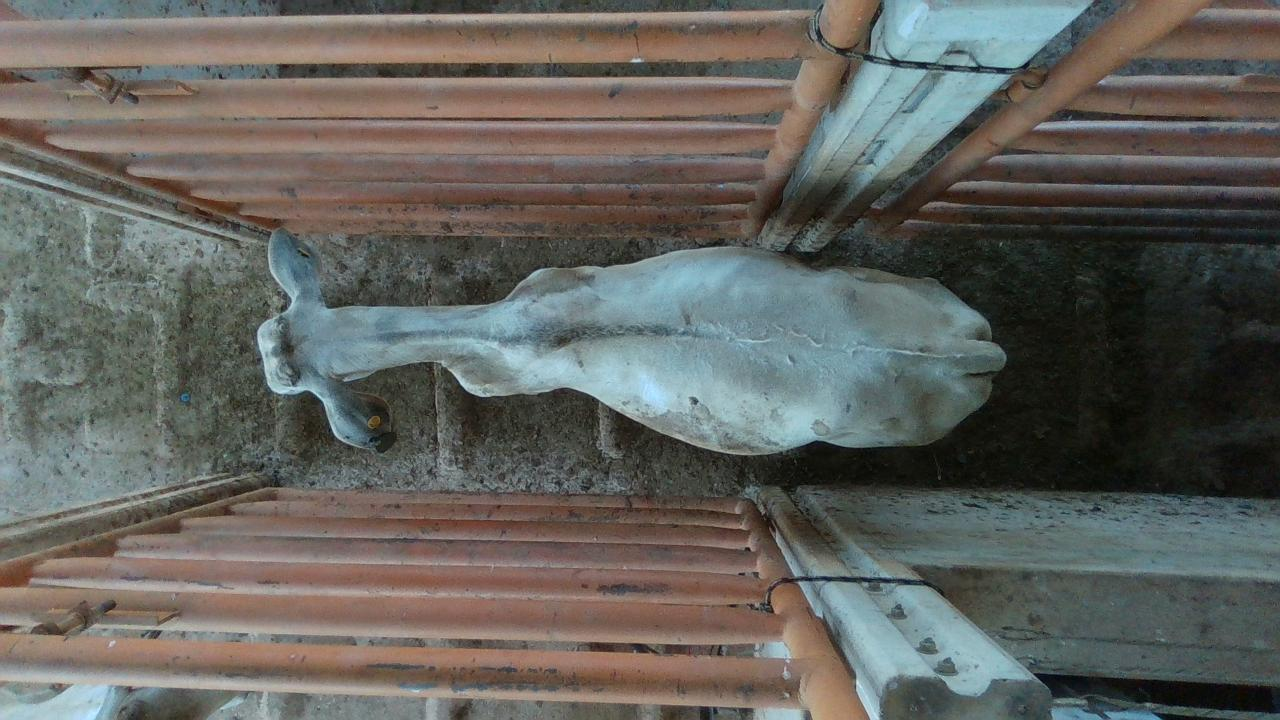cattle: (255, 225, 1007, 457)
